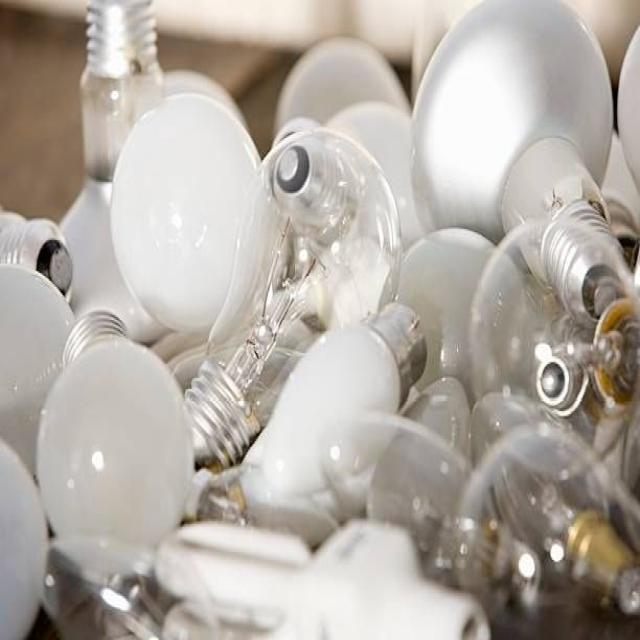electronic: (0, 0, 638, 637), (409, 0, 614, 242), (108, 90, 262, 332), (34, 330, 194, 552)
